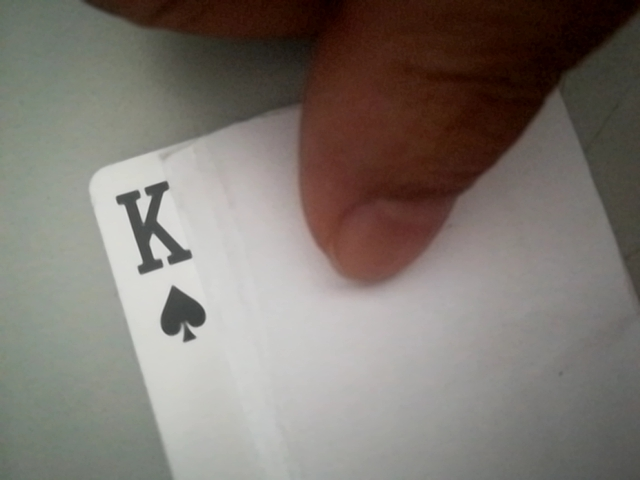ht k: (101, 161, 226, 357)
